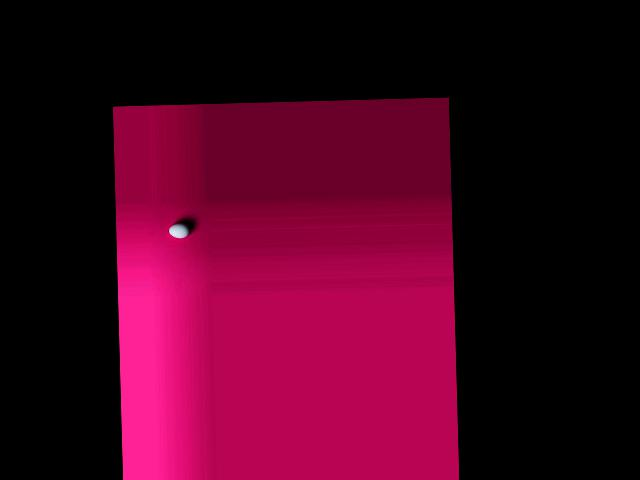egg: (168, 223, 190, 239)
